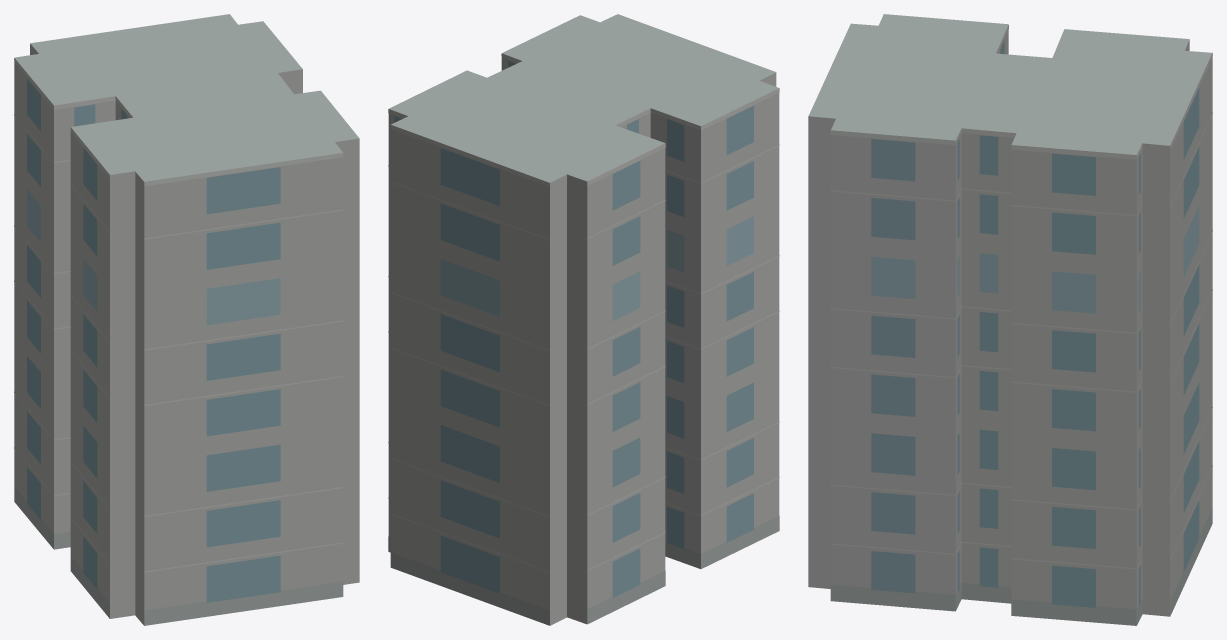
The model's file is survey-upis-32796185.glb.
3 views of the same model, side by side, from view 1: azimuth 30°, elevation 25°; view 2: azimuth 150°, elevation 25°; view 3: azimuth 270°, elevation 25° (orthographic). The views are drawn at different scales.
Visible parts, largest first — view 1: survey-upis-32796185.tmp; view 2: survey-upis-32796185.tmp; view 3: survey-upis-32796185.tmp.
Part boxes in pixels (x1,y1,x2,y2): survey-upis-32796185.tmp: [14, 14, 359, 625]; survey-upis-32796185.tmp: [388, 14, 779, 625]; survey-upis-32796185.tmp: [808, 14, 1212, 625].
Bounding box in the file's own units: 15.44 × 24 × 18.7.
